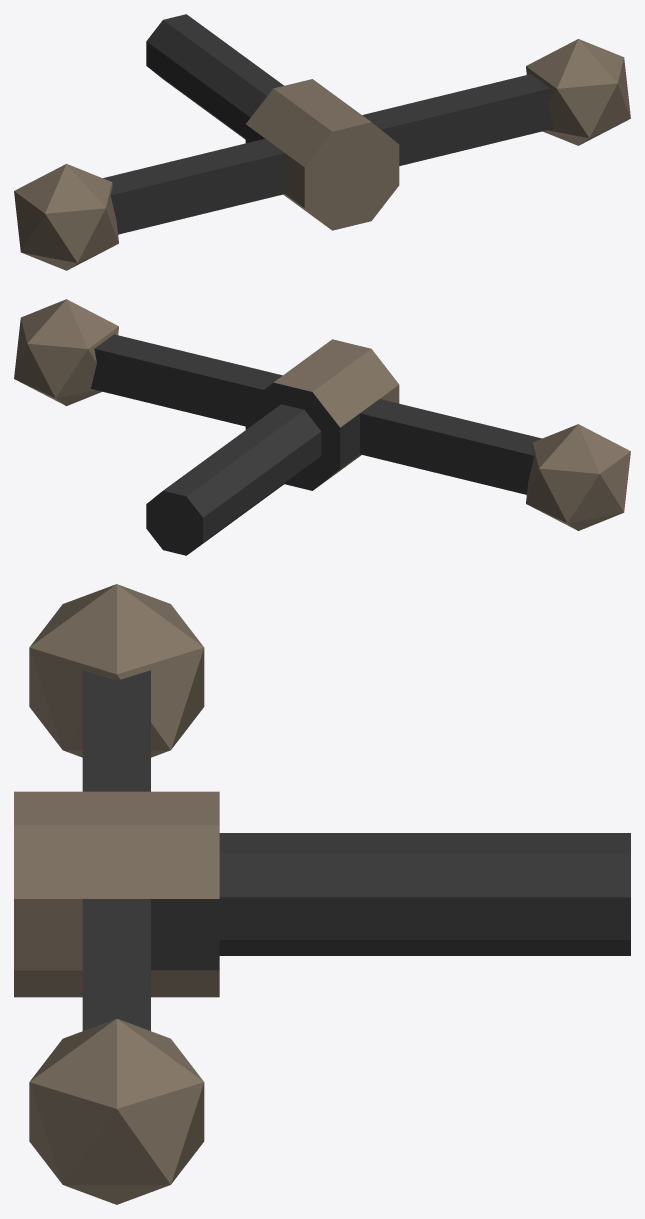
File: steampunk_valve_3.fbx
3 renders of one model, top to bottom at view 1: azimuth 30°, elevation 25°; view 2: azimuth 150°, elevation 25°; view 3: azimuth 270°, elevation 25°, orthographic. The views are drawn at different scales.
Visible parts, largest first — view 1: Cylinder.024; view 2: Cylinder.024; view 3: Cylinder.024.
Part boxes in pixels (x1,y1,x2,y2): Cylinder.024: (14, 14, 630, 270); Cylinder.024: (14, 299, 630, 555); Cylinder.024: (14, 584, 630, 1204).
Bounding box in the file's own units: 0.5894 × 0.1 × 0.3.
